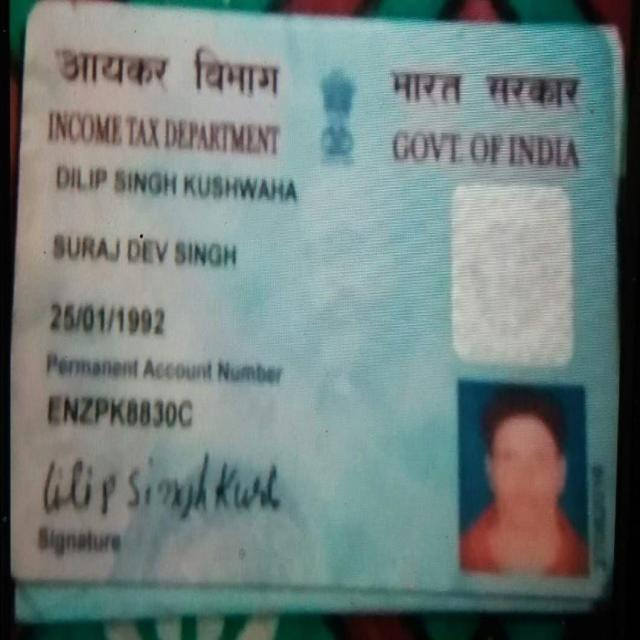pan_card: (11, 12, 613, 582)
